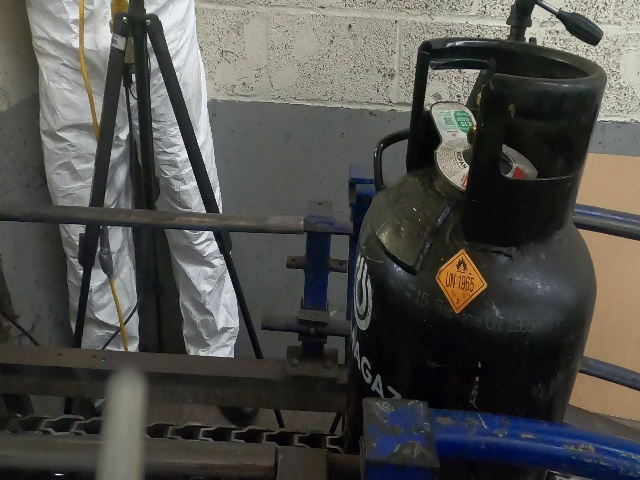gas_bottle: (0, 0, 608, 447)
